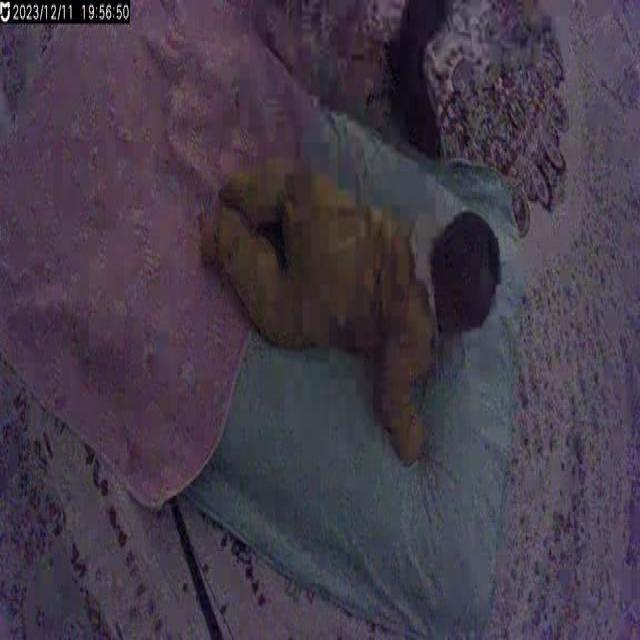baby: (196, 121, 507, 486)
